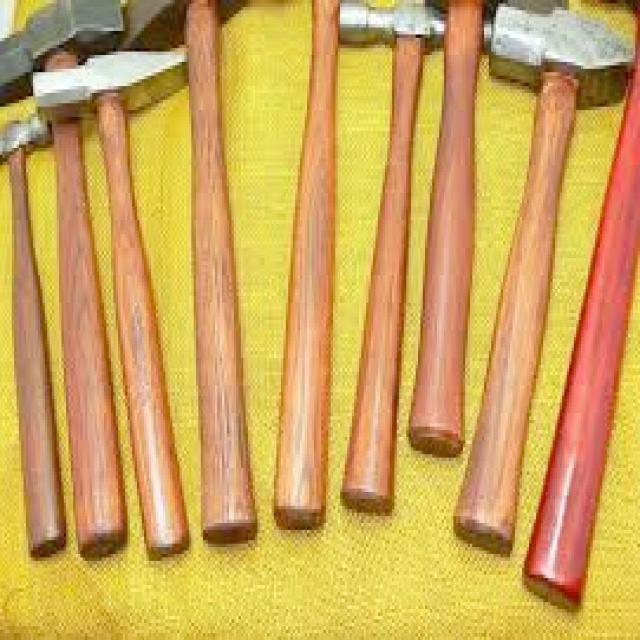hammer: (448, 0, 640, 564), (28, 45, 215, 568), (0, 0, 135, 582), (332, 0, 450, 523), (0, 106, 68, 585)
